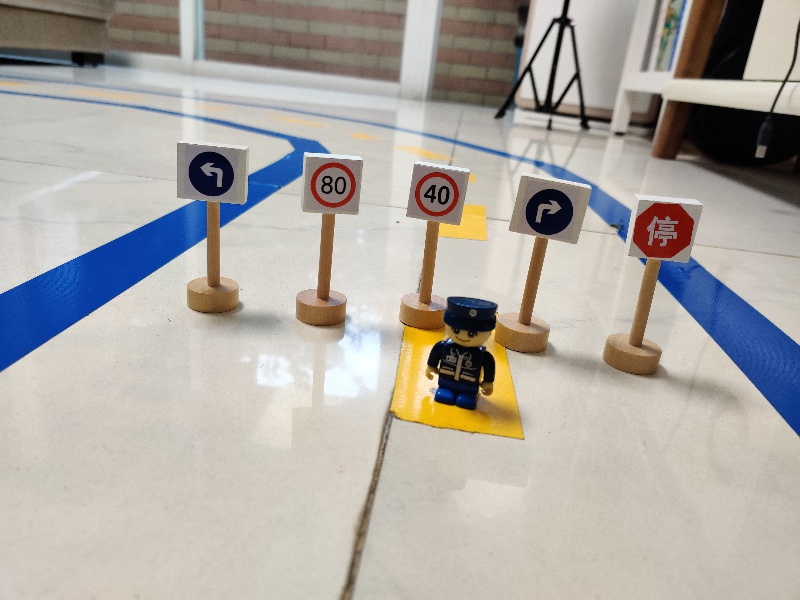limit_40: (400, 159, 473, 227)
limit_80: (293, 149, 368, 219)
person: (423, 290, 500, 421)
stop: (620, 192, 704, 264)
turn_left: (170, 136, 254, 206)
turn_right: (508, 169, 595, 247)
